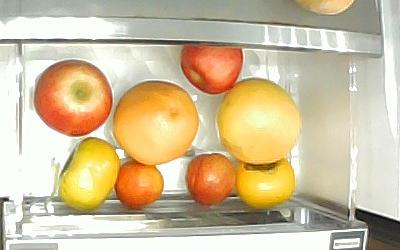apple: (32, 58, 113, 137), (179, 45, 243, 94)
grapefruit: (110, 79, 200, 166), (216, 76, 301, 164)
persimmon: (56, 135, 120, 211), (235, 158, 295, 209)
prune: (184, 151, 235, 205), (113, 158, 164, 207)
